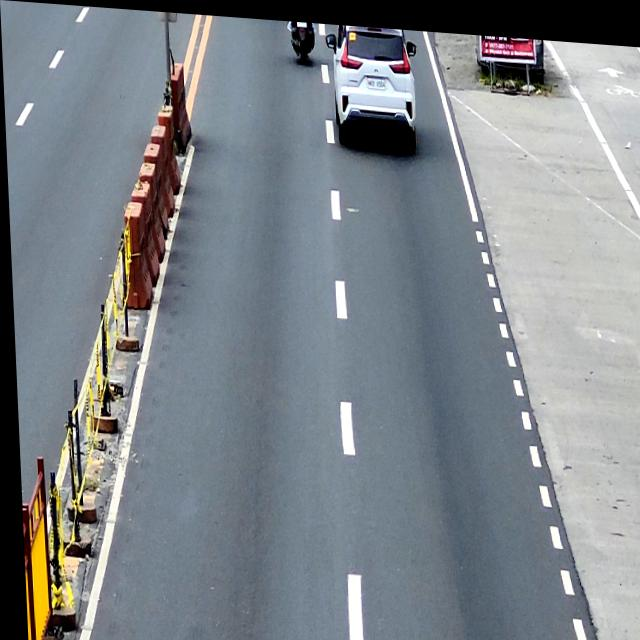Car: (326, 19, 420, 149)
License-Plate: (366, 71, 386, 84), (297, 17, 306, 23)
Motorcycle: (291, 17, 315, 60)
